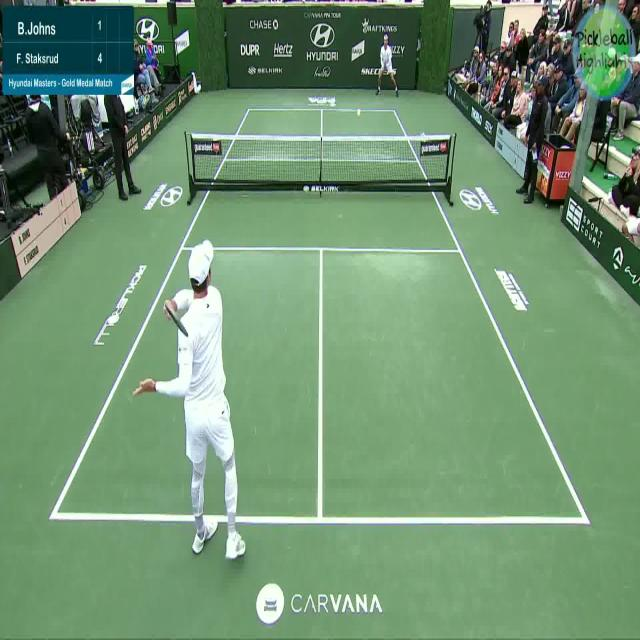ball: (354, 102, 365, 124)
